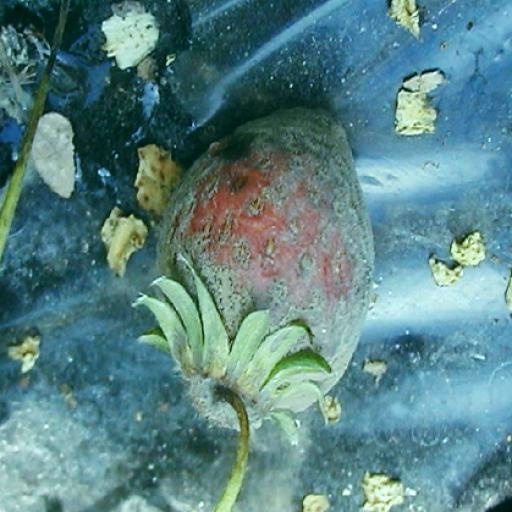Gray Mold: (137, 78, 379, 405)
